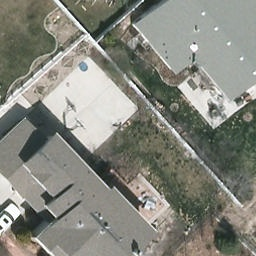car: (0, 203, 26, 239)
